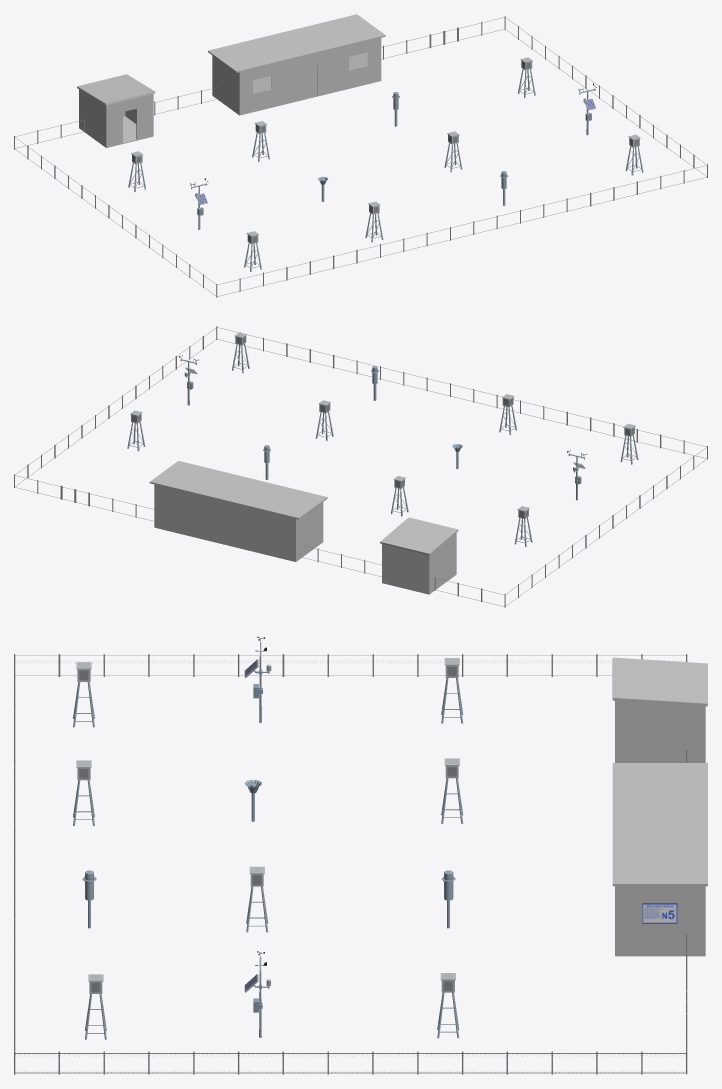
Rendered from Meteoestacion05.fbx.
The picture shows the model from 3 angles, top to bottom: view 1: azimuth 30°, elevation 25°; view 2: azimuth 150°, elevation 25°; view 3: azimuth 270°, elevation 25°; orthographic projection. The views are drawn at different scales.
Visible parts, largest first — view 1: changeHaus01.002, changeHaus04.001, fence.068, changeHaus01.004, changeHaus04.002, door; view 2: changeHaus01.002, changeHaus04.001, fence.068, changeHaus01.004, changeHaus04.002; view 3: changeHaus04.001, fence.068, changeHaus01.002, changeHaus01.004, changeHaus04.002, tabl01.003.
Part boxes in pixels (x1,y1,x2,y2): changeHaus01.002: [212, 38, 381, 114]; changeHaus04.001: [208, 14, 385, 72]; fence.068: [14, 16, 707, 297]; changeHaus01.004: [79, 89, 153, 147]; changeHaus04.002: [77, 74, 155, 105]; door: [303, 65, 317, 98]; changeHaus01.002: [154, 484, 323, 561]; changeHaus04.001: [149, 461, 327, 519]; fence.068: [14, 326, 707, 607]; changeHaus01.004: [382, 533, 456, 593]; changeHaus04.002: [380, 517, 458, 555]; changeHaus04.001: [612, 763, 707, 886]; fence.068: [14, 654, 687, 1074]; changeHaus01.002: [615, 886, 705, 954]; changeHaus01.004: [615, 700, 705, 762]; changeHaus04.002: [612, 657, 707, 706]; tabl01.003: [642, 903, 677, 923].
Bounding box in the file's own units: 4154 × 393 × 3061.
